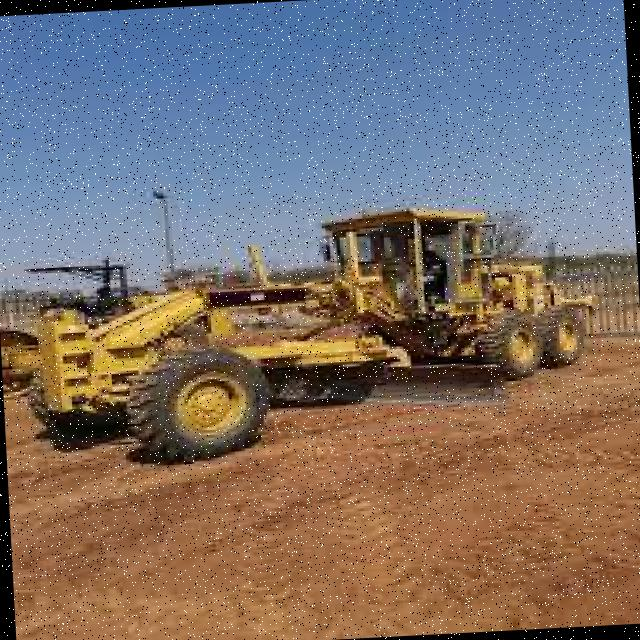Grader: (13, 160, 630, 472)
